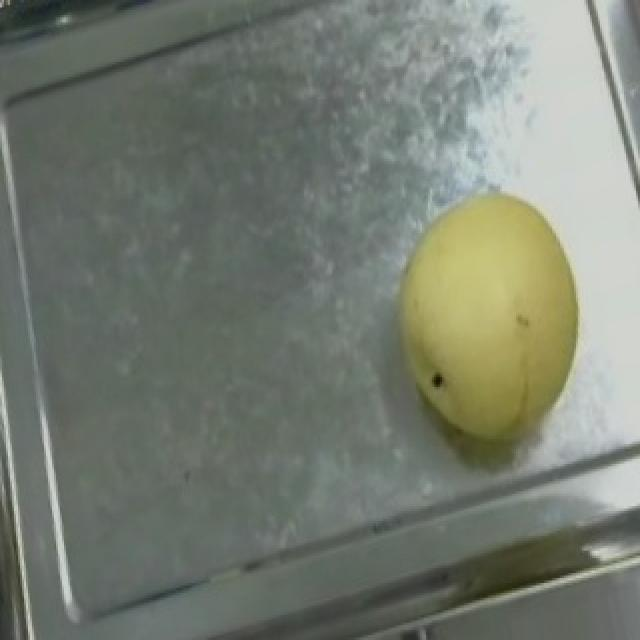Fruit: (352, 164, 624, 476)
